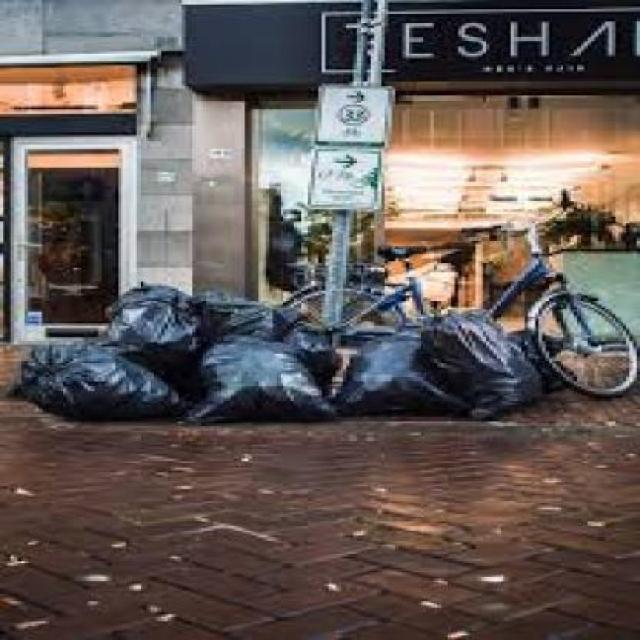garbage: (28, 283, 521, 420)
